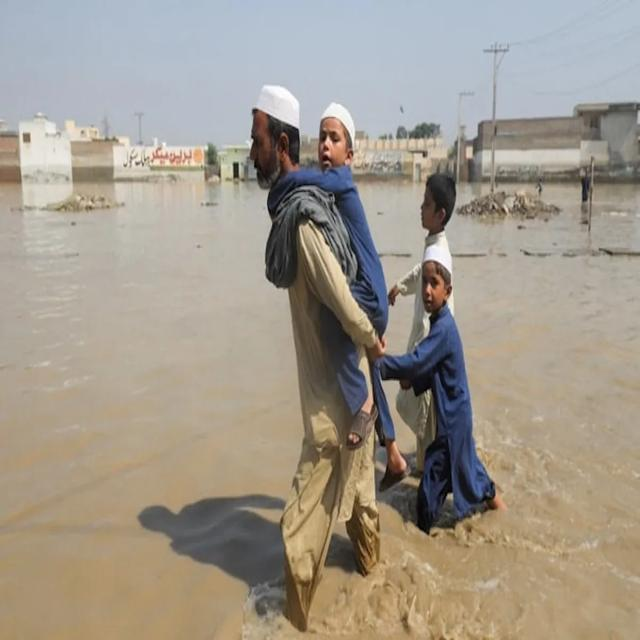Person-RiskLevel2: (229, 79, 376, 613), (391, 263, 512, 534), (393, 164, 484, 487)
